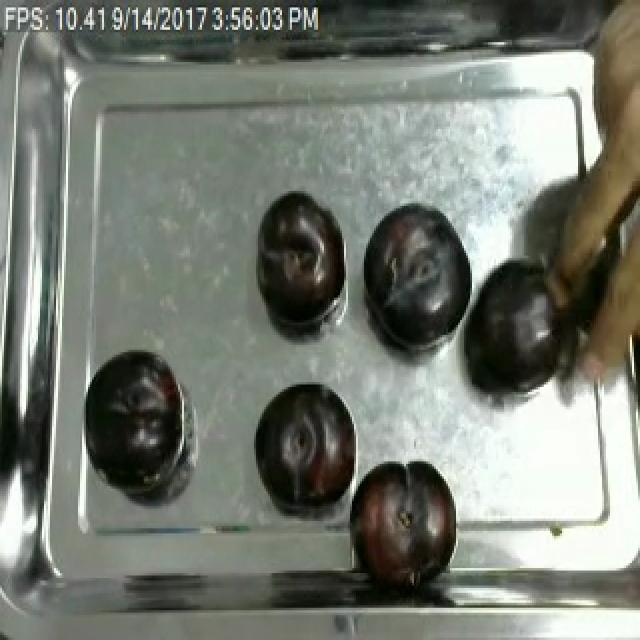Fruit: (358, 196, 478, 355), (454, 250, 574, 402), (80, 344, 188, 488), (252, 374, 360, 508), (348, 454, 460, 583), (252, 186, 346, 332)
